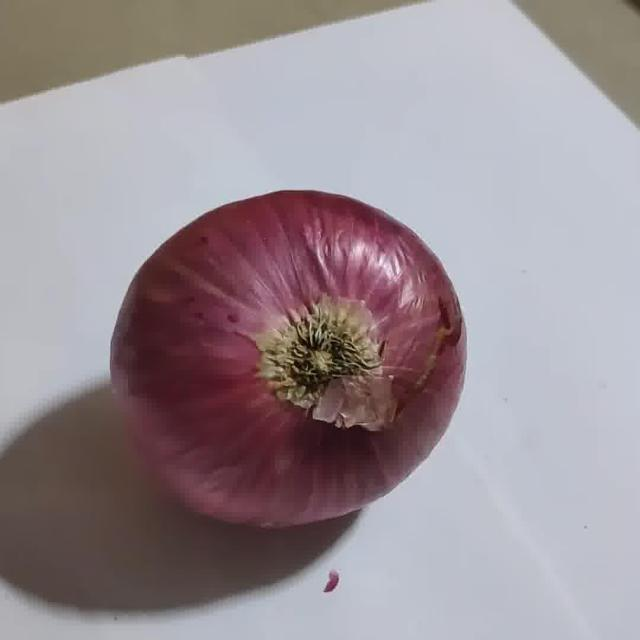Onion: (110, 191, 465, 527)
